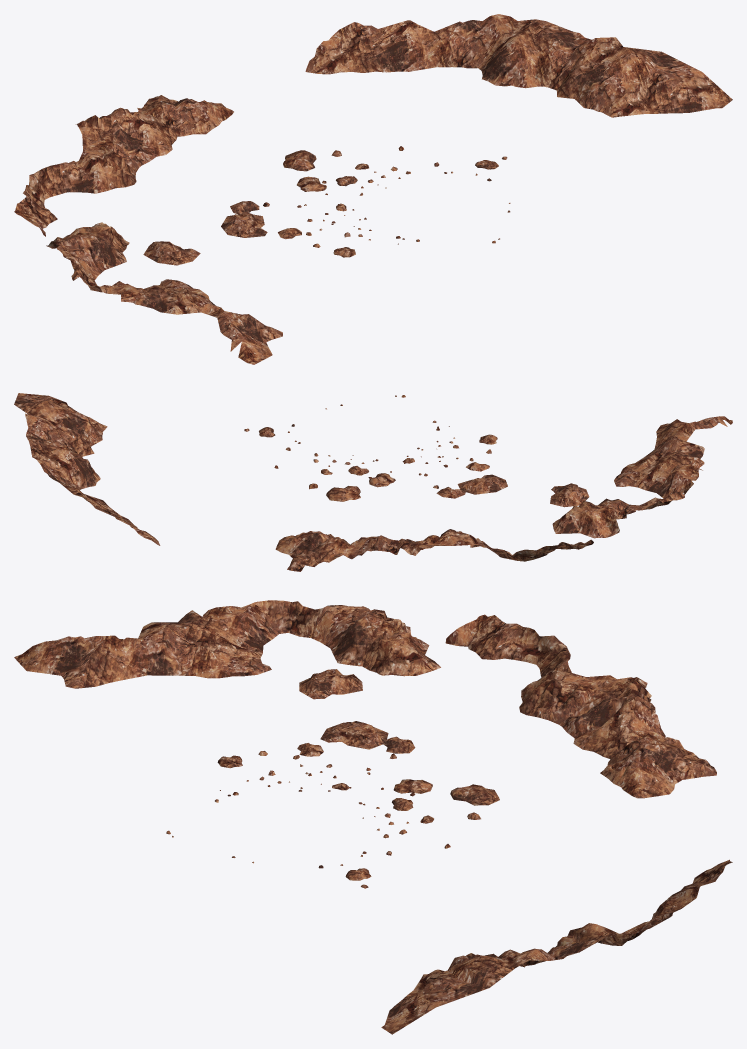
3 renders of one model, top to bottom at view 1: azimuth 30°, elevation 25°; view 2: azimuth 150°, elevation 25°; view 3: azimuth 270°, elevation 25°, orthographic. The views are drawn at different scales.
Parts seen in each view (by area): view 1: Mesh_0040; view 2: Mesh_0040; view 3: Mesh_0040.
Boxes of the visible parts, left/top/right/bottom form: Mesh_0040: left=14, top=14, right=732, bottom=364; Mesh_0040: left=14, top=393, right=732, bottom=571; Mesh_0040: left=14, top=600, right=732, bottom=1034.
Bounding box in the file's own units: 31804 × 1764 × 23913.
1 material, 1 textured.
